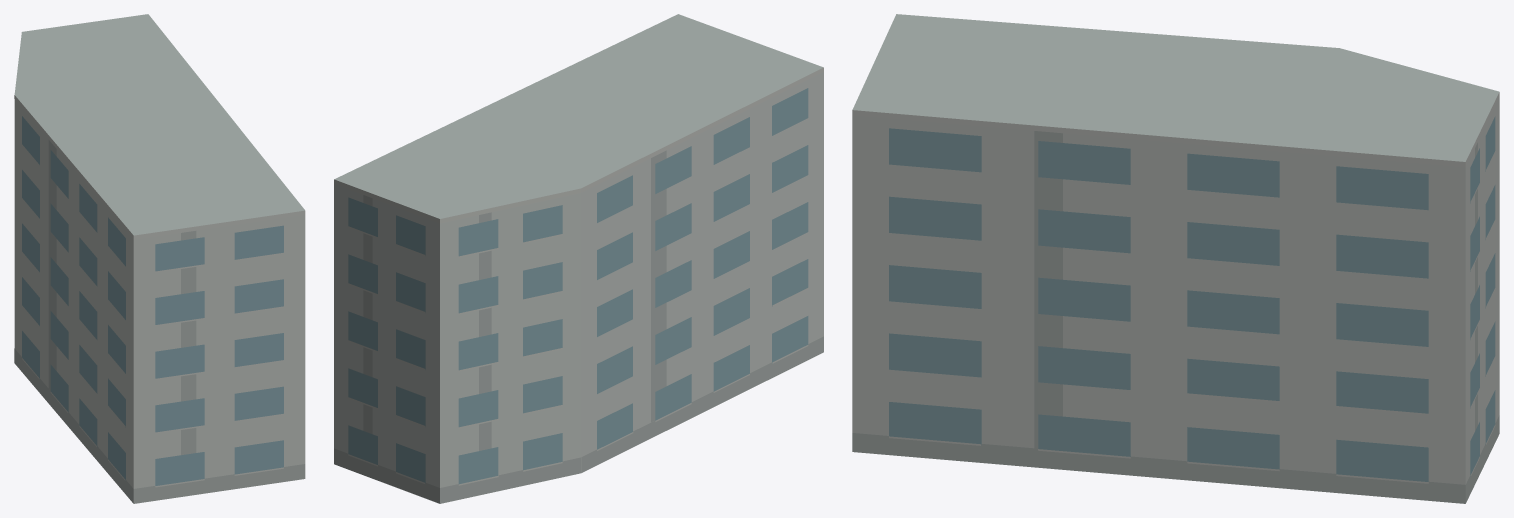
File: survey-upis-32603222.glb
3 renders of one model, left to right at view 1: azimuth 30°, elevation 25°; view 2: azimuth 150°, elevation 25°; view 3: azimuth 270°, elevation 25°, orthographic. The views are drawn at different scales.
Visible parts, largest first — view 1: survey-upis-32603222.tmp; view 2: survey-upis-32603222.tmp; view 3: survey-upis-32603222.tmp.
Part boxes in pixels (x1,y1,x2,y2): survey-upis-32603222.tmp: [14, 14, 305, 503]; survey-upis-32603222.tmp: [334, 14, 823, 503]; survey-upis-32603222.tmp: [852, 14, 1499, 503].
Size of the model in its own units: 14.3 by 15.4 by 26.43.
